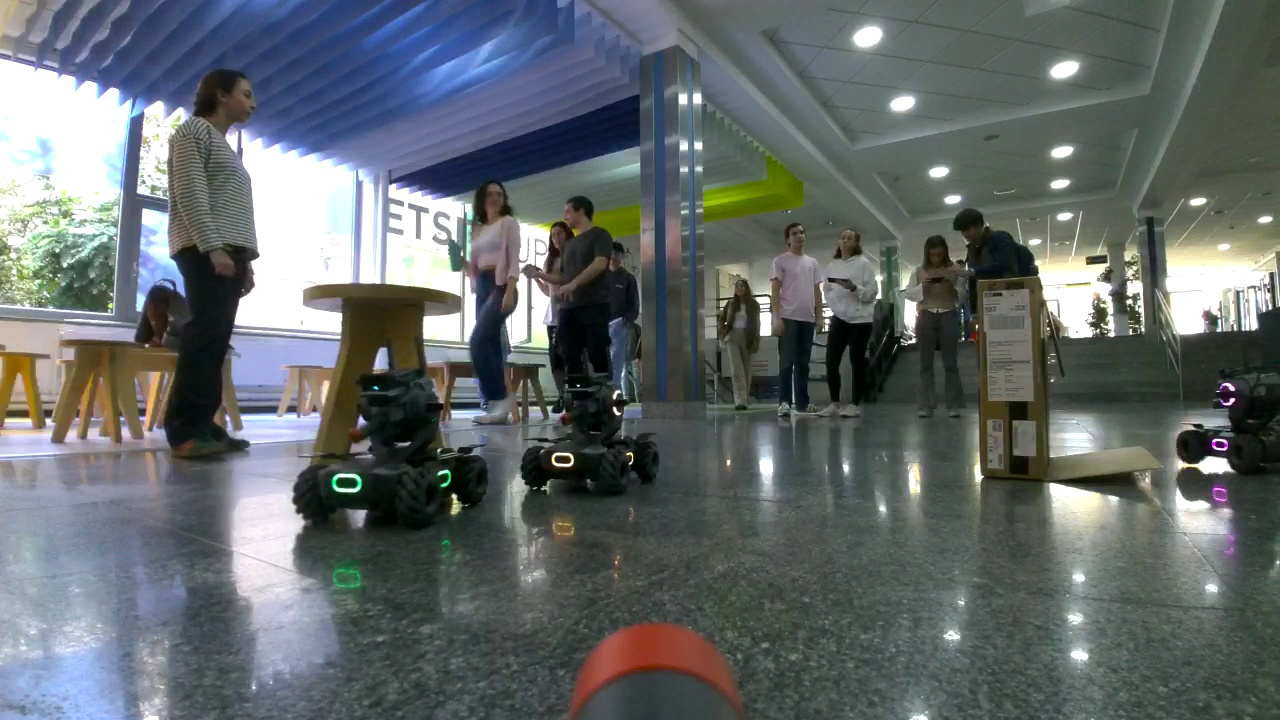robot: (285, 363, 500, 527), (516, 377, 673, 495), (1171, 368, 1280, 470)
